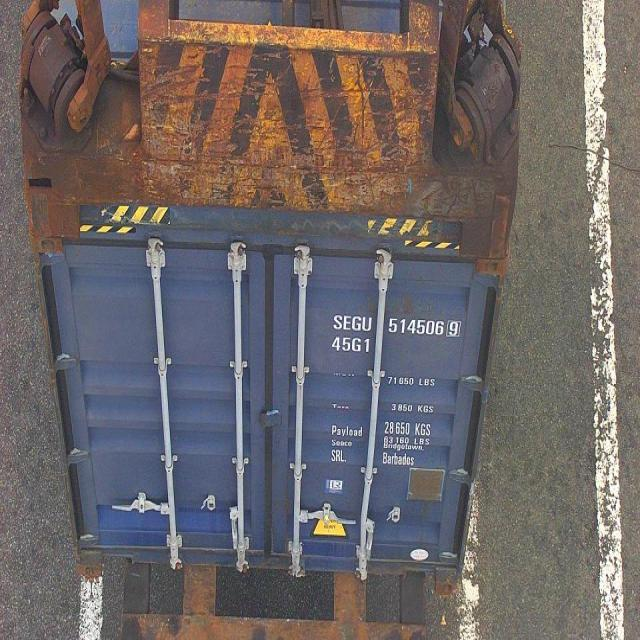ISO: (328, 336, 373, 350)
container_number: (332, 317, 464, 337)
